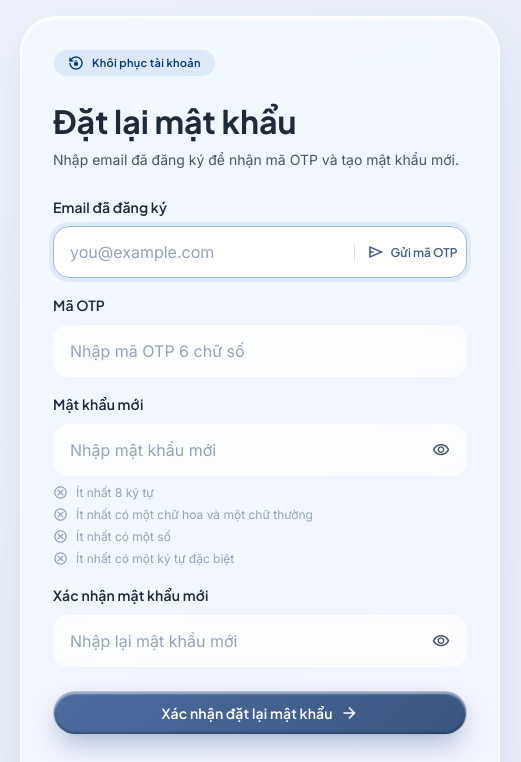
Test case: ResetPasswordPage › Send OTP flow › should send reset password OTP successfully
Type "test@example.com" into the field labelled "Email đã đăng ký" at (260, 252), box [53,226,467,278]
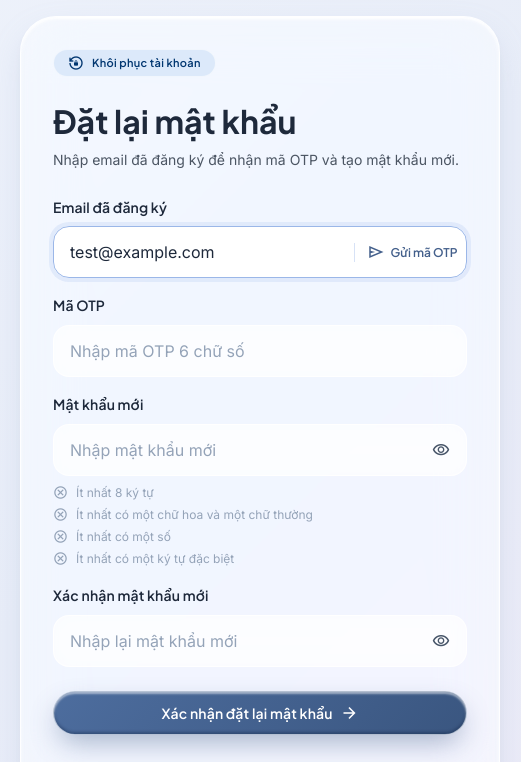
Click the button "Gửi mã OTP" at (406, 252), box [354,243,457,262]
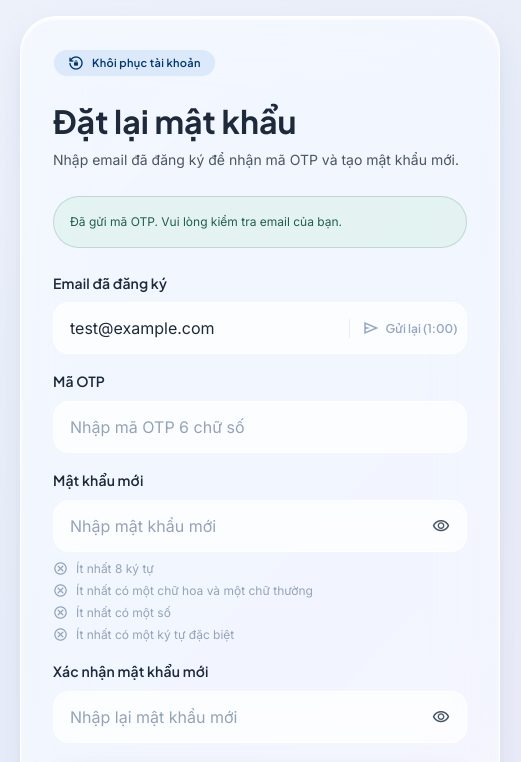
Now the text "Đã gửi mã OTP. Vui lòng kiểm tra email của bạn." is shown, box [53,196,467,248]
